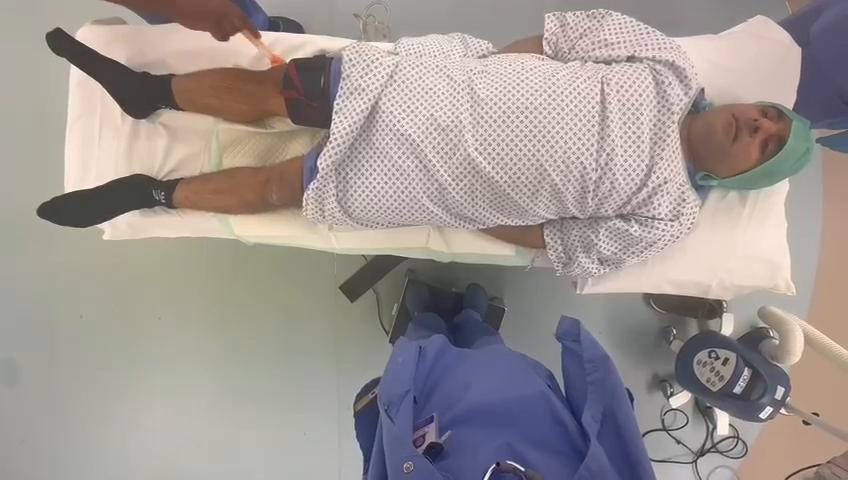bed: (38, 10, 813, 297)
patient: (38, 10, 812, 276)
prepstick: (240, 30, 285, 66)
tourniquet: (282, 55, 336, 128)
